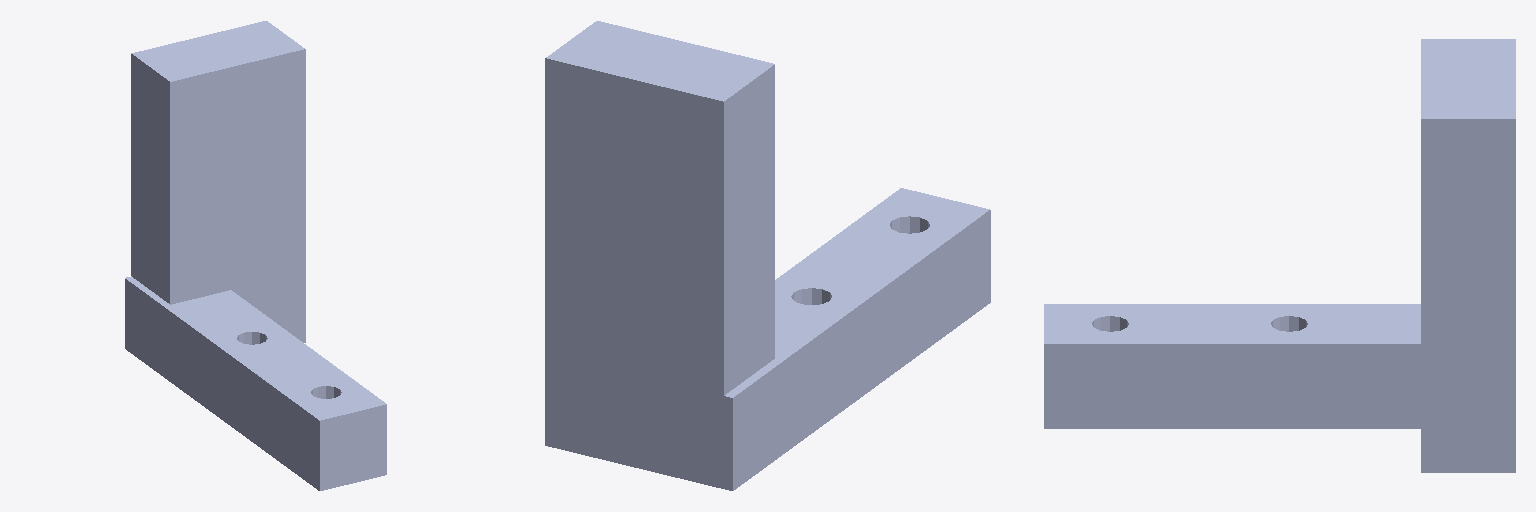
The robot description file, URDF, robot "camera_finger":
<robot
  name="camera_finger">
  <link
    name="base_link">
    <inertial>
      <origin
        xyz="0.0090622 0.011358 0.01576"
        rpy="0 0 0" />
      <mass
        value="0.012149" />
      <inertia
        ixx="4.0424E-06"
        ixy="3.7712E-07"
        ixz="2.5332E-07"
        iyy="2.2857E-06"
        iyz="9.9897E-07"
        izz="2.5769E-06" />
    </inertial>
    <visual>
      <origin
        xyz="0 0 0"
        rpy="0 0 0" />
      <geometry>
        <mesh
          filename="package://camera_finger/meshes/base_link.STL" />
      </geometry>
      <material
        name="">
        <color
          rgba="0.79216 0.81961 0.93333 1" />
      </material>
    </visual>
    <collision>
      <origin
        xyz="0 0 0"
        rpy="0 0 0" />
      <geometry>
        <mesh
          filename="package://camera_finger/meshes/base_link.STL" />
      </geometry>
    </collision>
  </link>
</robot>

--- Render facts (derived) ---
3 views of the same robot in one strip: view 1: azimuth 30°, elevation 25°; view 2: azimuth 150°, elevation 25°; view 3: azimuth 270°, elevation 25° (orthographic).
Model camera_finger with 1 links and 0 joints (none), rooted at base_link, posed all joints at 0.
Links seen in each view (by area): view 1: base_link; view 2: base_link; view 3: base_link.
Link boxes in pixels (x1,y1,x2,y2): base_link: [125, 21, 386, 490]; base_link: [545, 21, 990, 490]; base_link: [1044, 39, 1515, 472].
Size in the robot's own frame: 0.021 by 0.05 by 0.0415 metres.
Meshes: 1 distinct files referenced, 1 mesh visuals loaded (1 binary STL).
